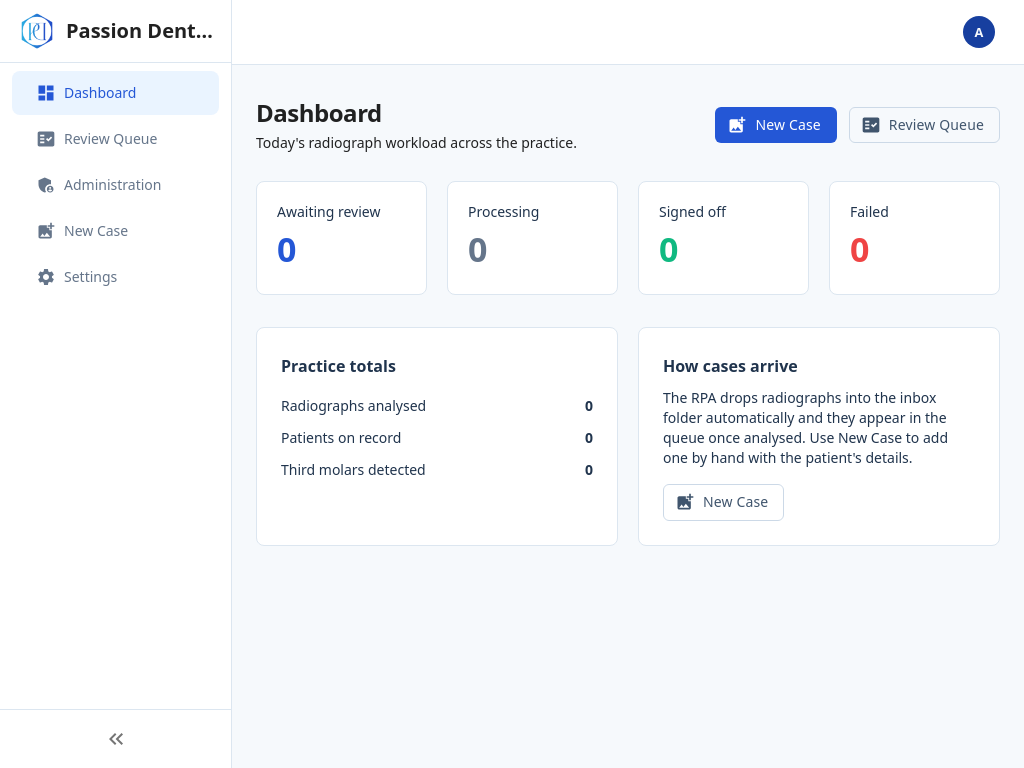
Test: app shell navigation › navigates to the intake page from the nav
Click the link "New Case" below "Administration": (82, 231) [36,221,128,241]
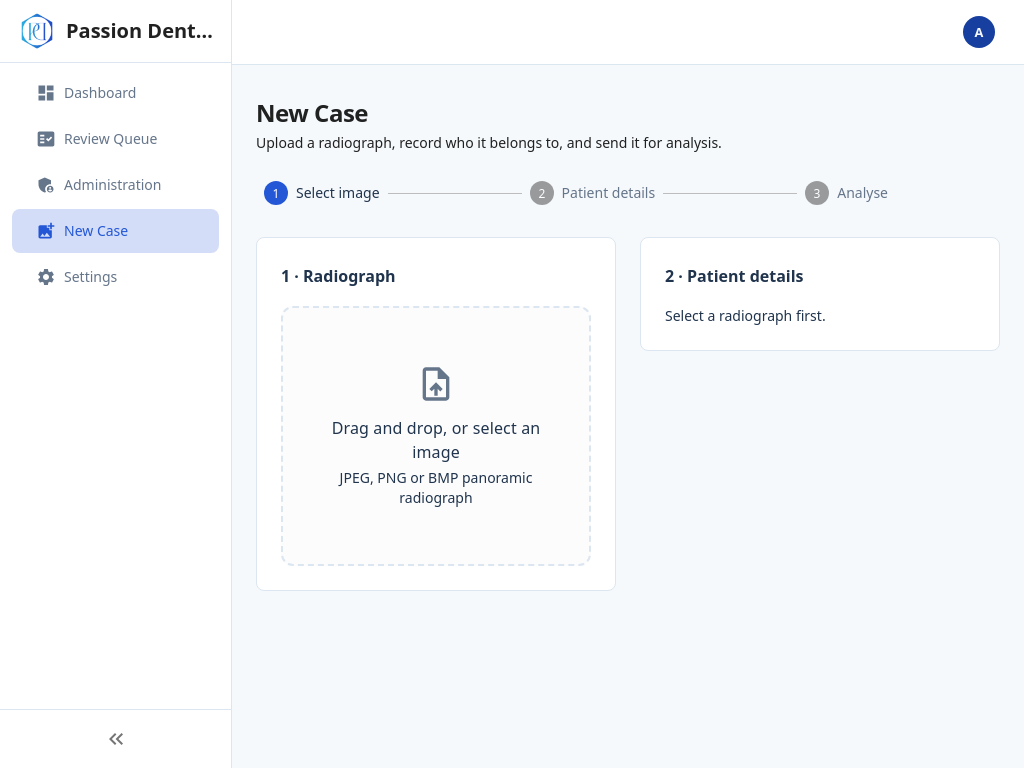
Expected: the heading "New Case" is shown, [256,96,368,129]
